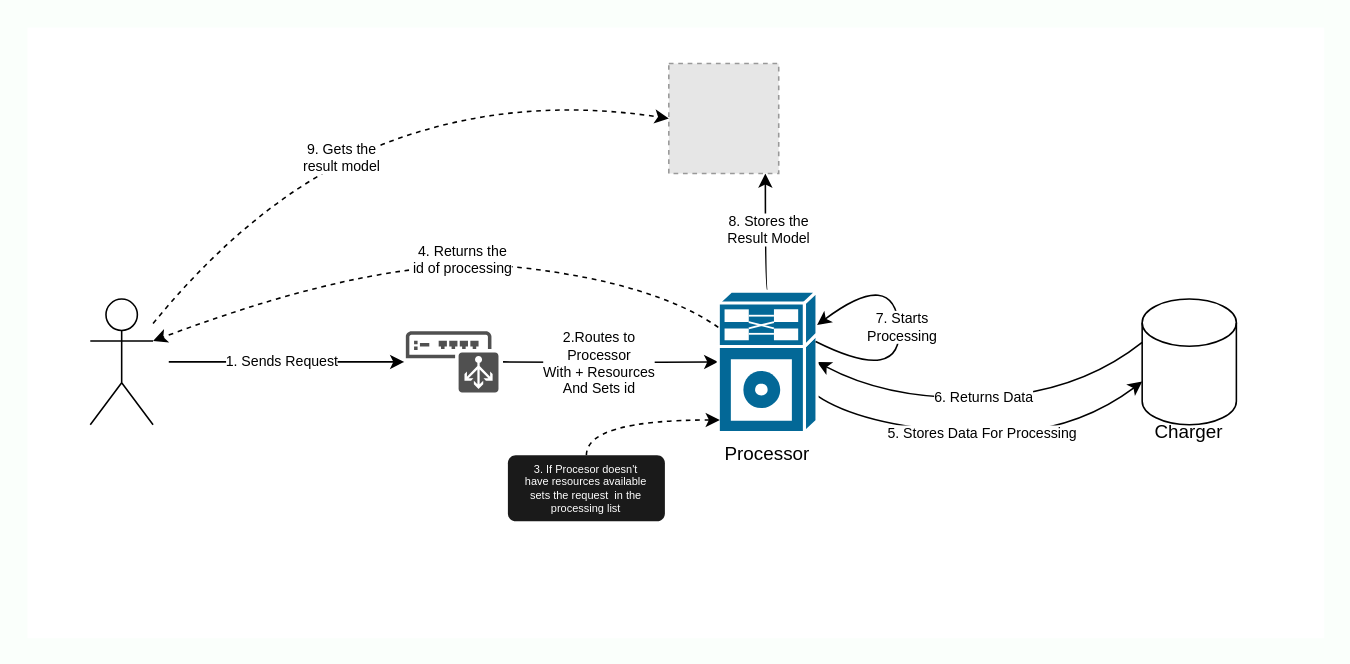
Image size: 1350x664. Some labels were removed from this diagram. Grey dashed boxes stand in for pictures. Each missing label, with the box of its shape:
Client: (89, 298, 153, 425)
Stabilizer: (405, 330, 498, 392)
